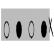correct: (16, 20, 22, 40)
not correct: (40, 15, 54, 38)
